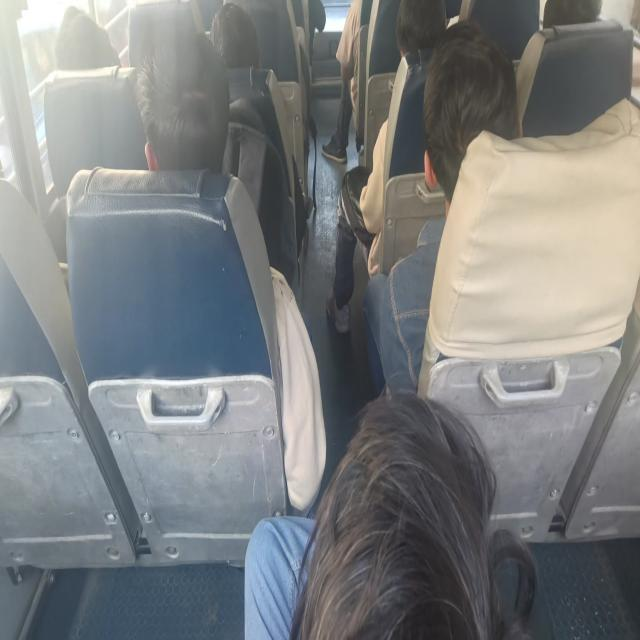person: (300, 415, 500, 640), (138, 59, 222, 188)
